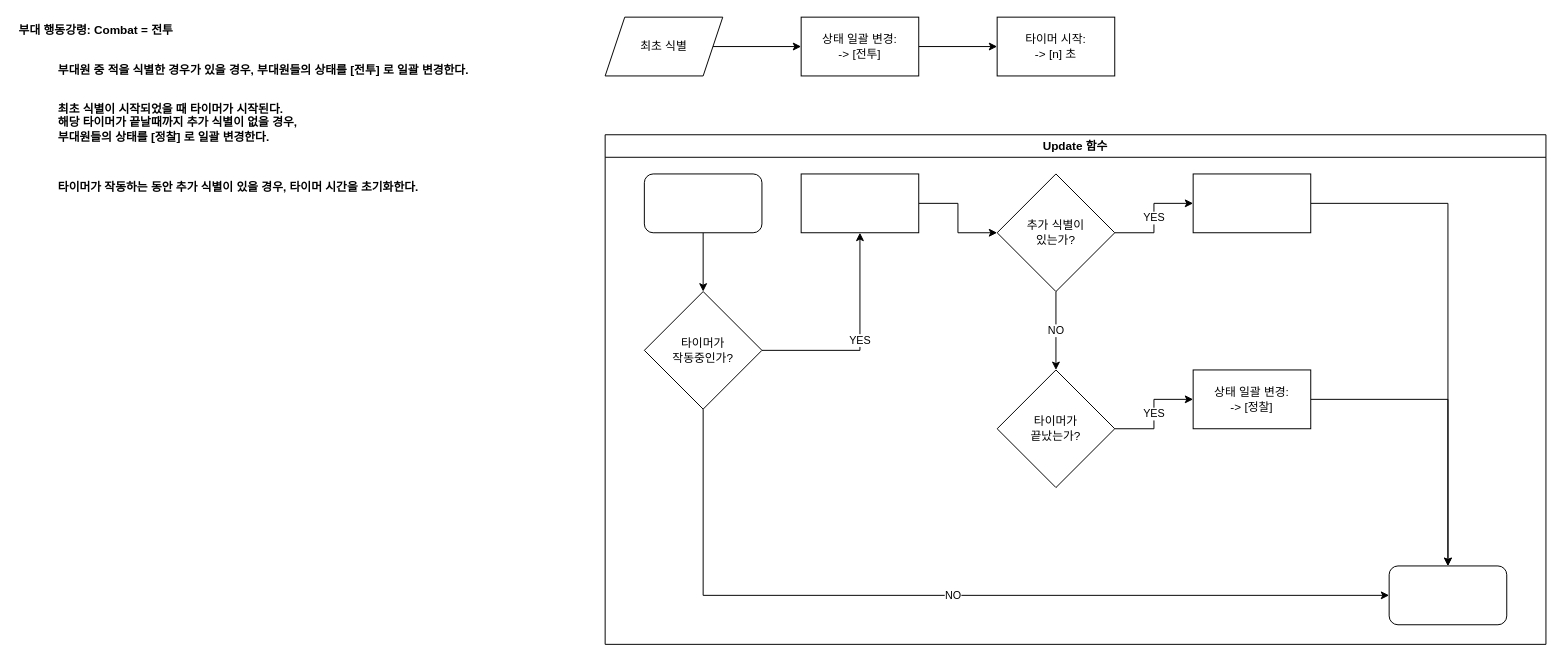
Image size: 1563x662. Some labels were removed from this diagram. Here are the shapes that lost their labels. From the top down, the box of each, then its label:
(643, 173, 762, 233): Update 함수 시작
(800, 173, 919, 233): 타이머 차감: -> -Time.deltaTime
(1192, 173, 1311, 233): 타이머 초기화: -> [n] 초
(1388, 565, 1507, 625): Update 함수 종료
